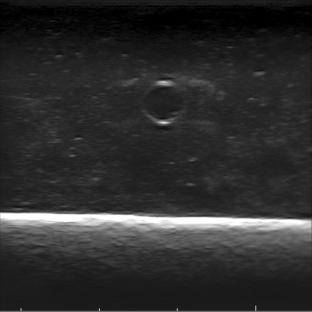vessel: (140, 79, 186, 125)
